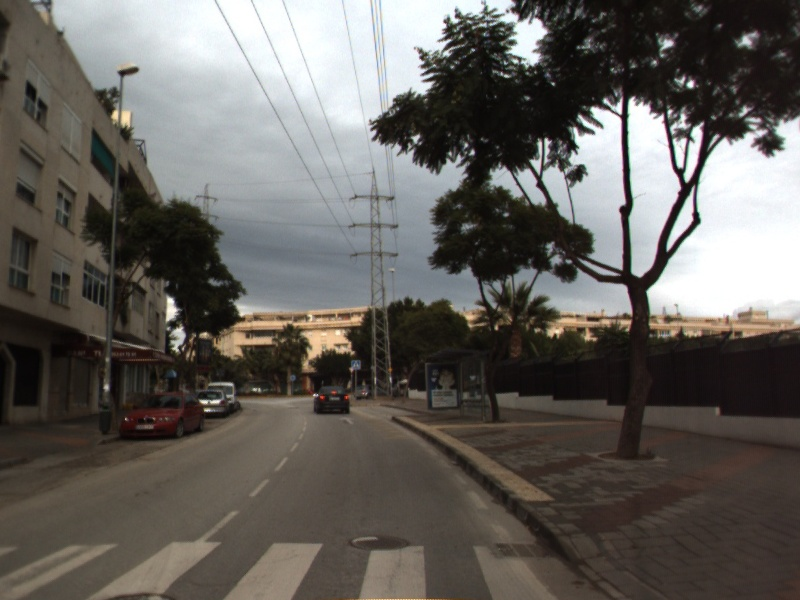STRAIGHT: (337, 415, 358, 426)
